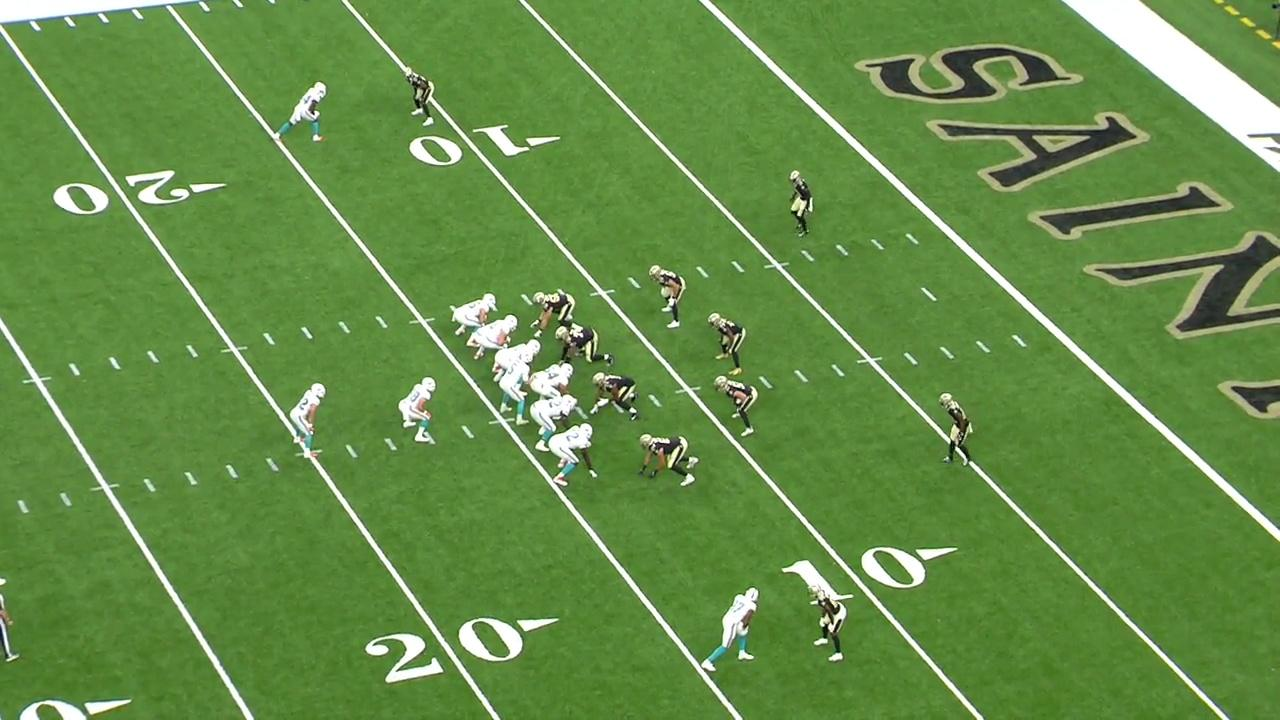player: (699, 584, 763, 675), (268, 78, 330, 147), (803, 579, 849, 664), (544, 423, 601, 489), (493, 347, 537, 427), (637, 433, 701, 488), (287, 381, 328, 461), (934, 390, 975, 468), (492, 338, 543, 399), (471, 313, 521, 374), (397, 372, 439, 444), (713, 374, 759, 439), (530, 393, 578, 454), (588, 369, 642, 423), (553, 324, 616, 370), (449, 292, 498, 351), (706, 310, 748, 377), (647, 263, 687, 331), (528, 290, 576, 340), (402, 66, 436, 128), (528, 360, 576, 402), (788, 168, 816, 239)
ref: (0, 574, 27, 672)
